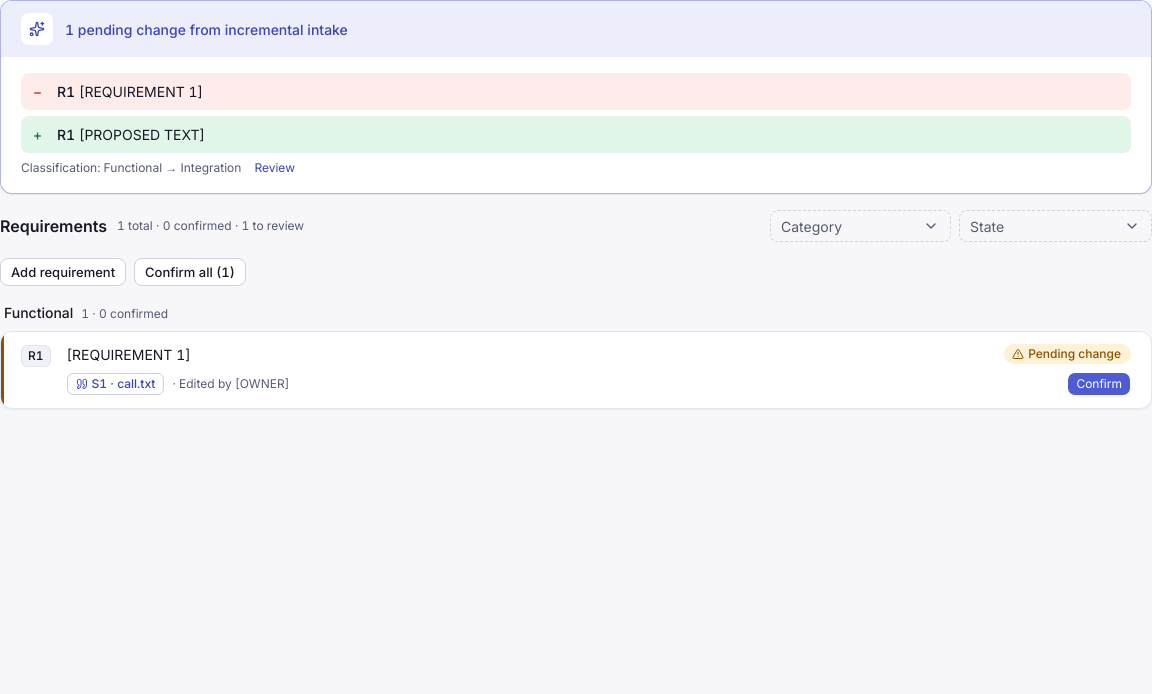
Test: a Requirement with a pending change › Reject asks for a reason (the shared ReasonInput) and sends it trimmed
Click the button "[REQUIREMENT 1]" at (129, 354), box [67,344,988,365]
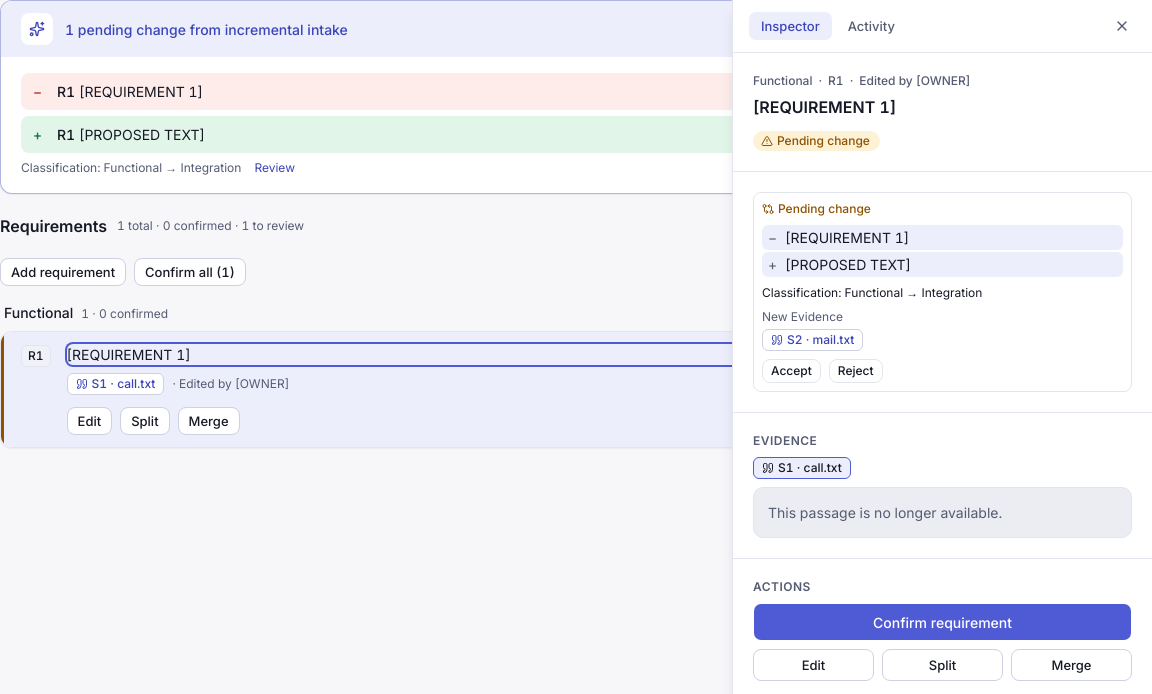
Click the button "Reject" at (856, 371), box [829,359,883,383]
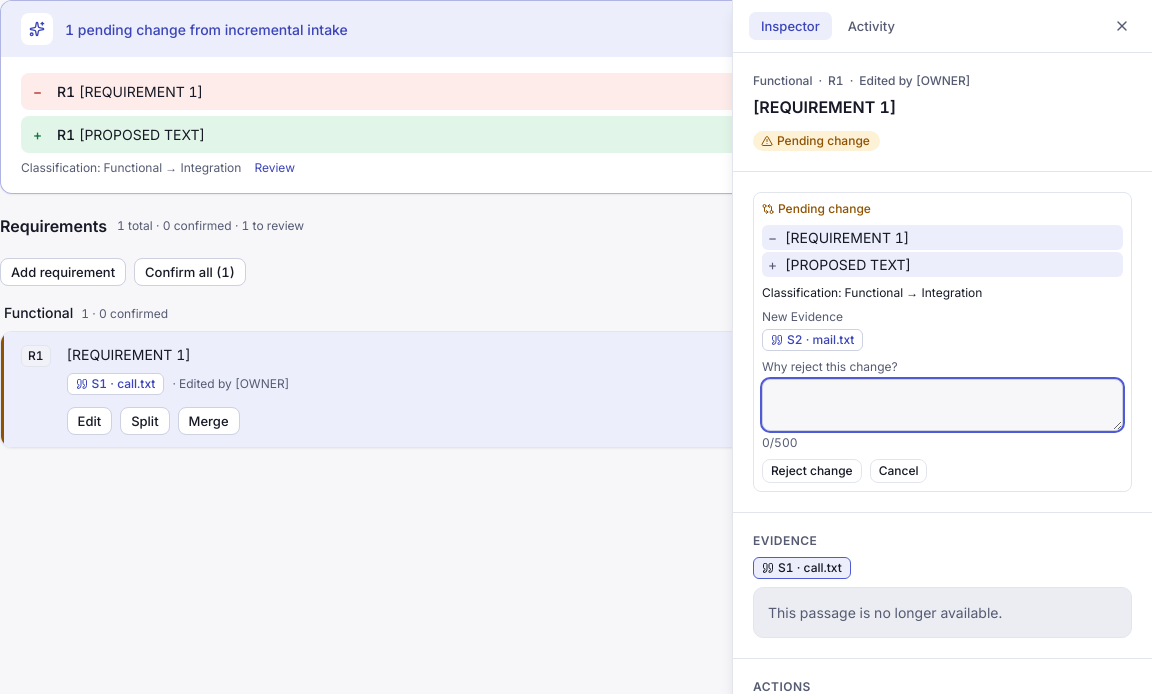
Click the button "Reject change" at (812, 471), box [762,459,862,483]
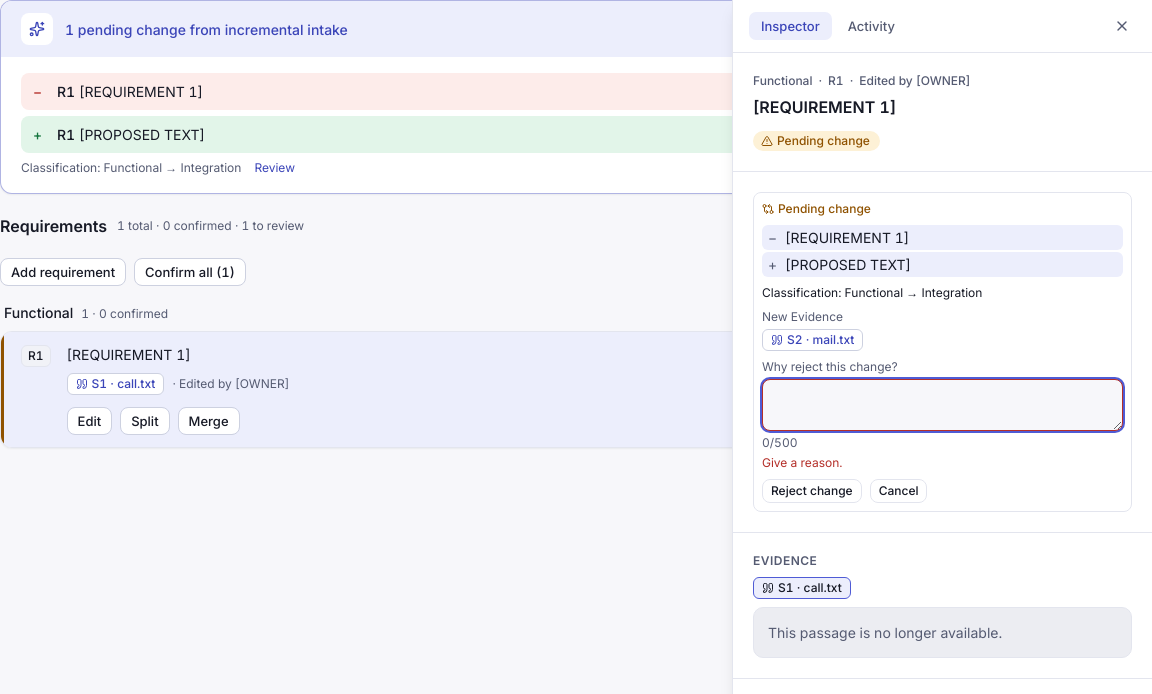
Now the text "0/500" is shown, box [762,435,798,450]
Now the text "Give a reason." is shown, box [762,455,843,470]
Type "  The customer meant ECC.  " into the text box labelled "Why reject this change?" at (942, 405), box [762,379,1123,431]
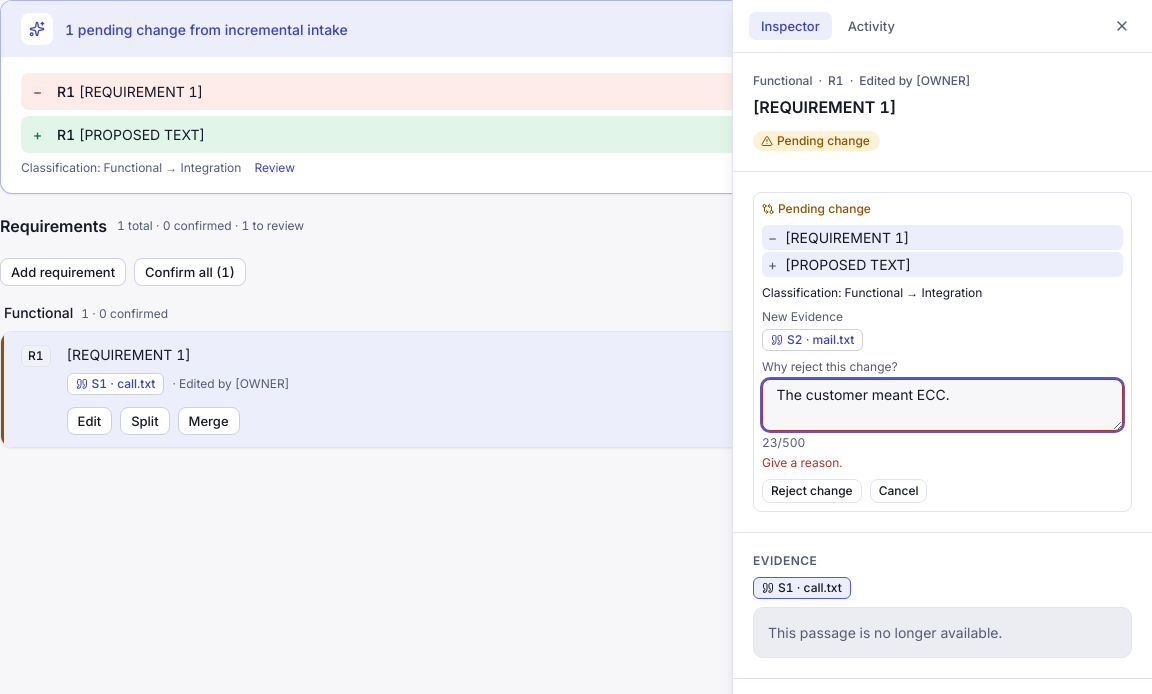
Click the button "Reject change" at (812, 491), box [762,479,862,503]
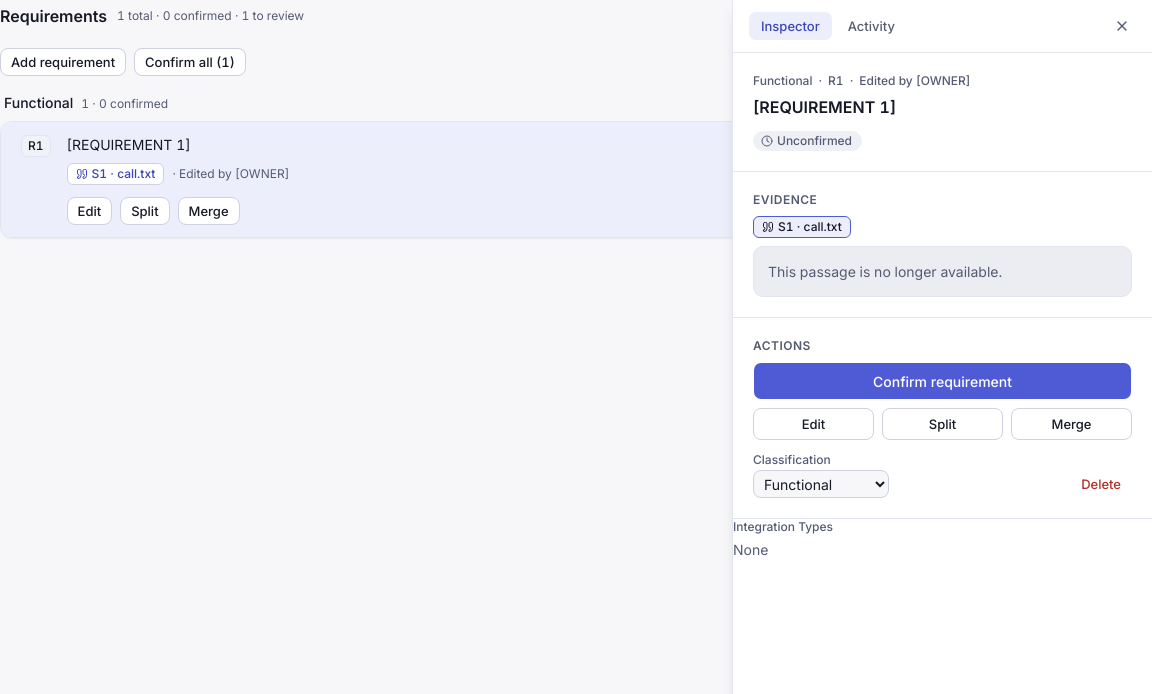
Now the element with test id "pending-change" is gone
Now the text "pending change" is gone
